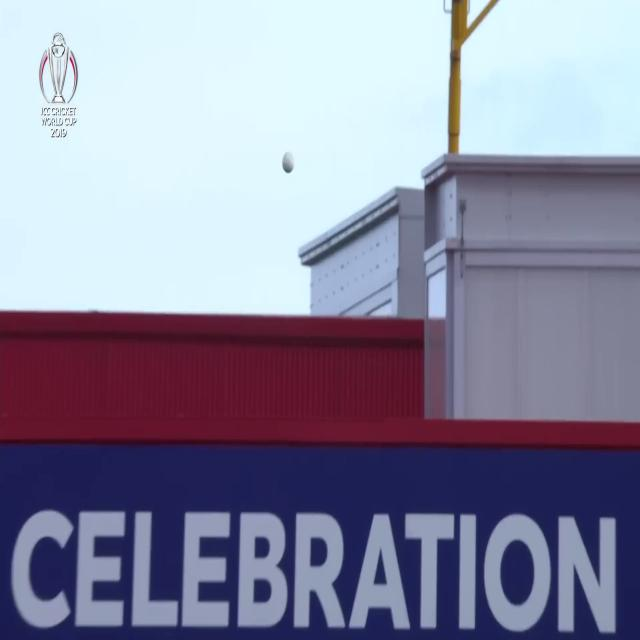ball: (280, 150, 297, 178)
